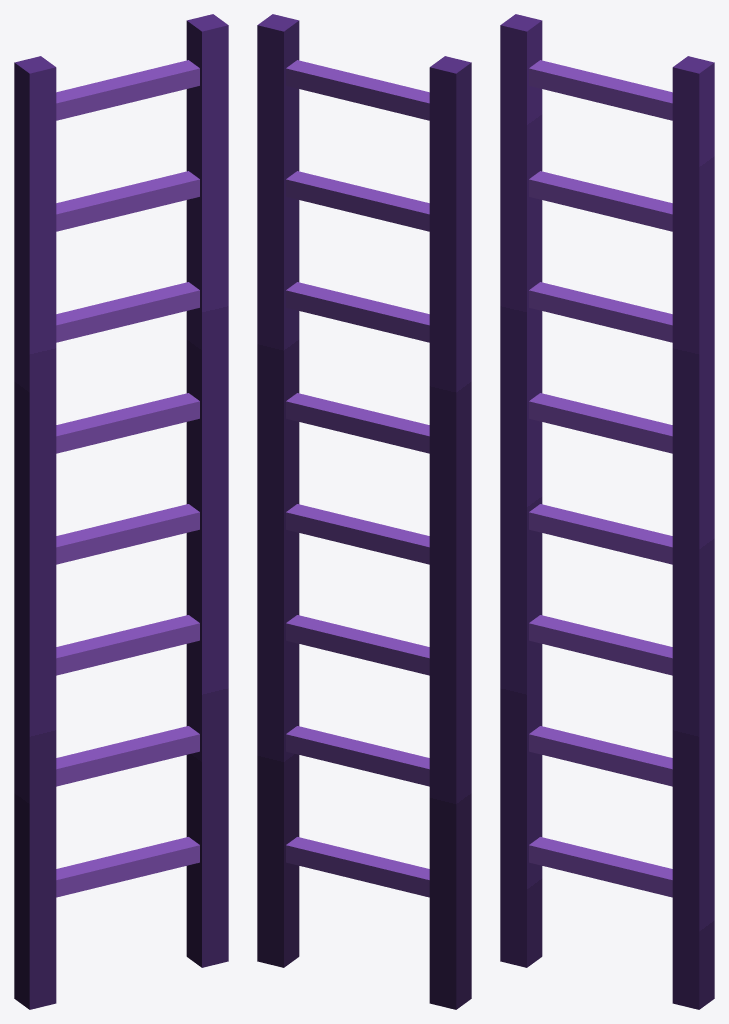
File: ladder_crystal.glb
The picture shows the model from 3 angles, left to right: view 1: azimuth 30°, elevation 25°; view 2: azimuth 150°, elevation 25°; view 3: azimuth 330°, elevation 25°; orthographic projection.
Bounding box in the file's own units: 0.6 × 2.7 × 0.08.
1 material, 1 textured.
